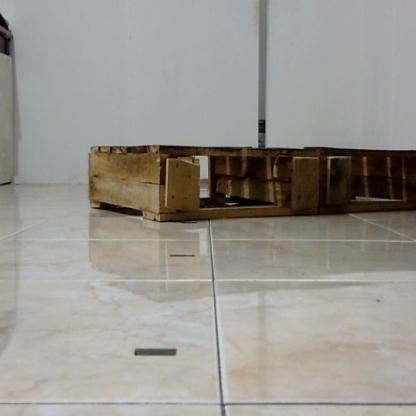Wooden-Pallet: (86, 144, 320, 222), (329, 146, 415, 217)
